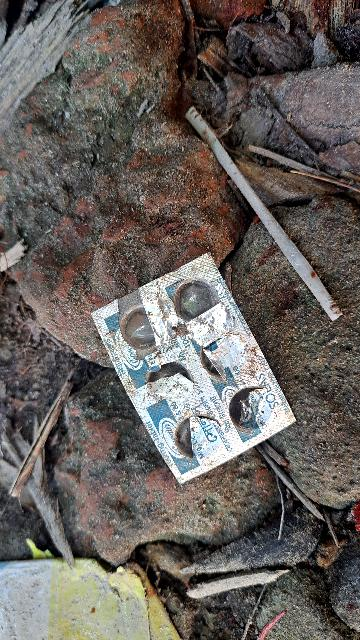medicine: (86, 249, 302, 492)
